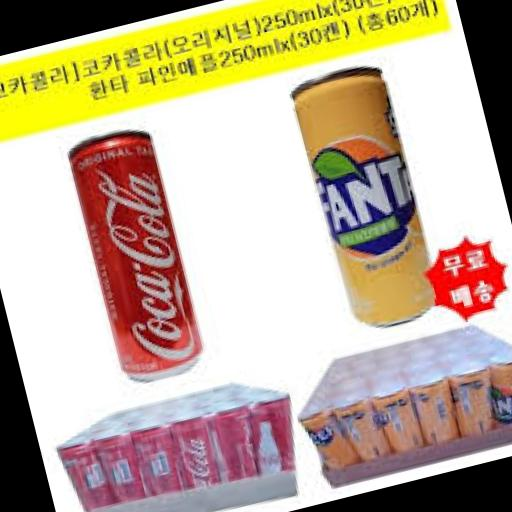Coca: (53, 119, 217, 396)
